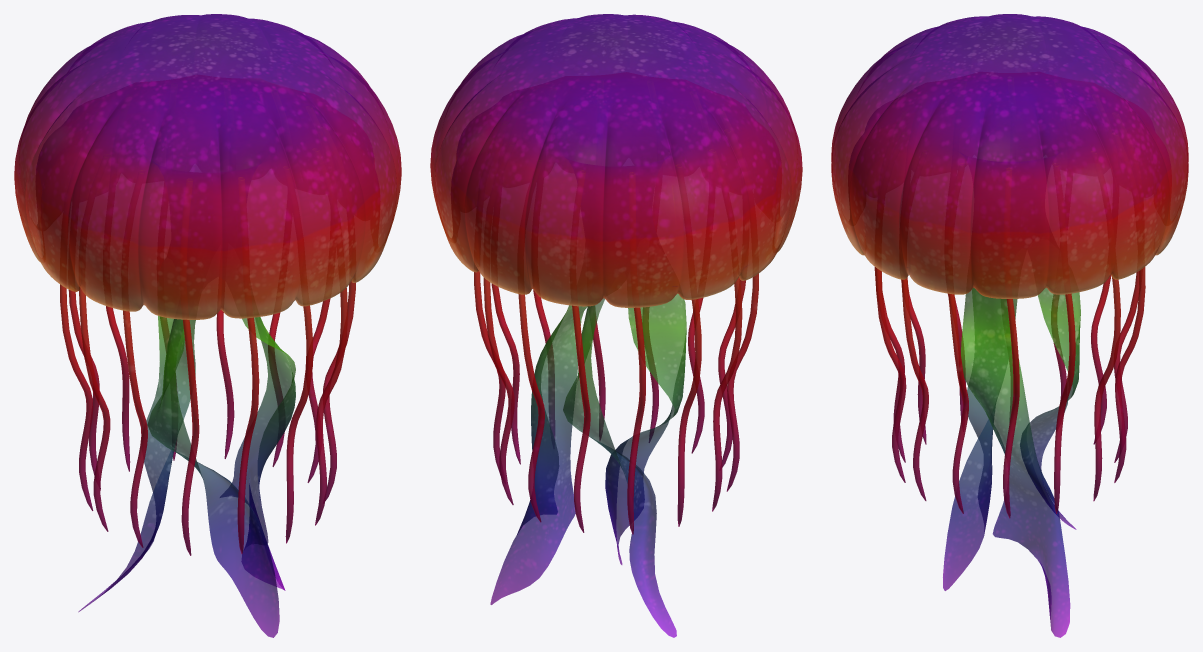
The model's file is colorful_jellyfish.glb.
3 renders of one model, left to right at view 1: azimuth 30°, elevation 25°; view 2: azimuth 150°, elevation 25°; view 3: azimuth 270°, elevation 25°, orthographic. The views are drawn at different scales.
Visible parts, largest first — view 1: Cylinder, BezierCurve; view 2: Cylinder, BezierCurve; view 3: Cylinder, BezierCurve.
Boxes of the visible parts, left/top/right/bottom form: Cylinder: left=14, top=14, right=401, bottom=637; BezierCurve: left=60, top=151, right=355, bottom=555; Cylinder: left=430, top=14, right=802, bottom=637; BezierCurve: left=474, top=131, right=758, bottom=534; Cylinder: left=831, top=14, right=1188, bottom=637; BezierCurve: left=874, top=153, right=1145, bottom=518.
Size of the model in its own units: 1.25 by 2.12 by 1.24.
Materials: 1 (1 with a texture image).
